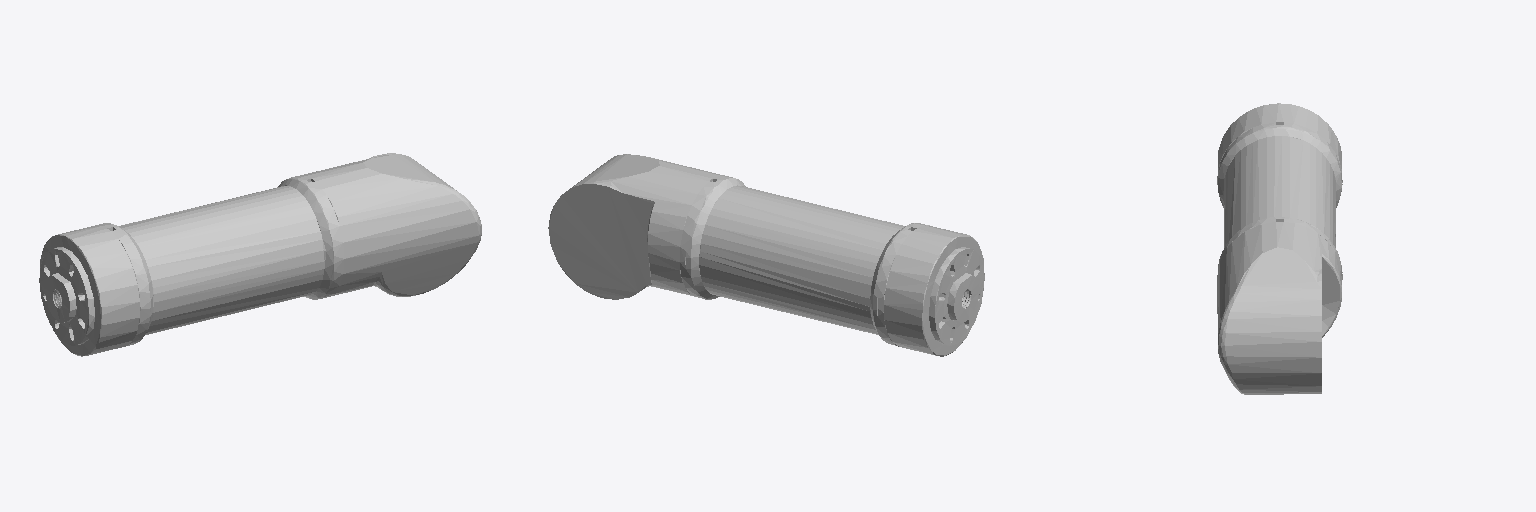
File: m3_inline.obj
3 views of the same model, side by side, from view 1: azimuth 30°, elevation 25°; view 2: azimuth 150°, elevation 25°; view 3: azimuth 270°, elevation 25° (orthographic).
Visible parts, largest first — view 1: M3-INLINE; view 2: M3-INLINE; view 3: M3-INLINE.
Part boxes in pixels (left/top/right/bottom): M3-INLINE: left=39, top=153, right=481, bottom=356; M3-INLINE: left=548, top=154, right=984, bottom=356; M3-INLINE: left=1217, top=103, right=1342, bottom=394.
Size of the model in its own units: 0.1467 by 0.0441 by 0.04.